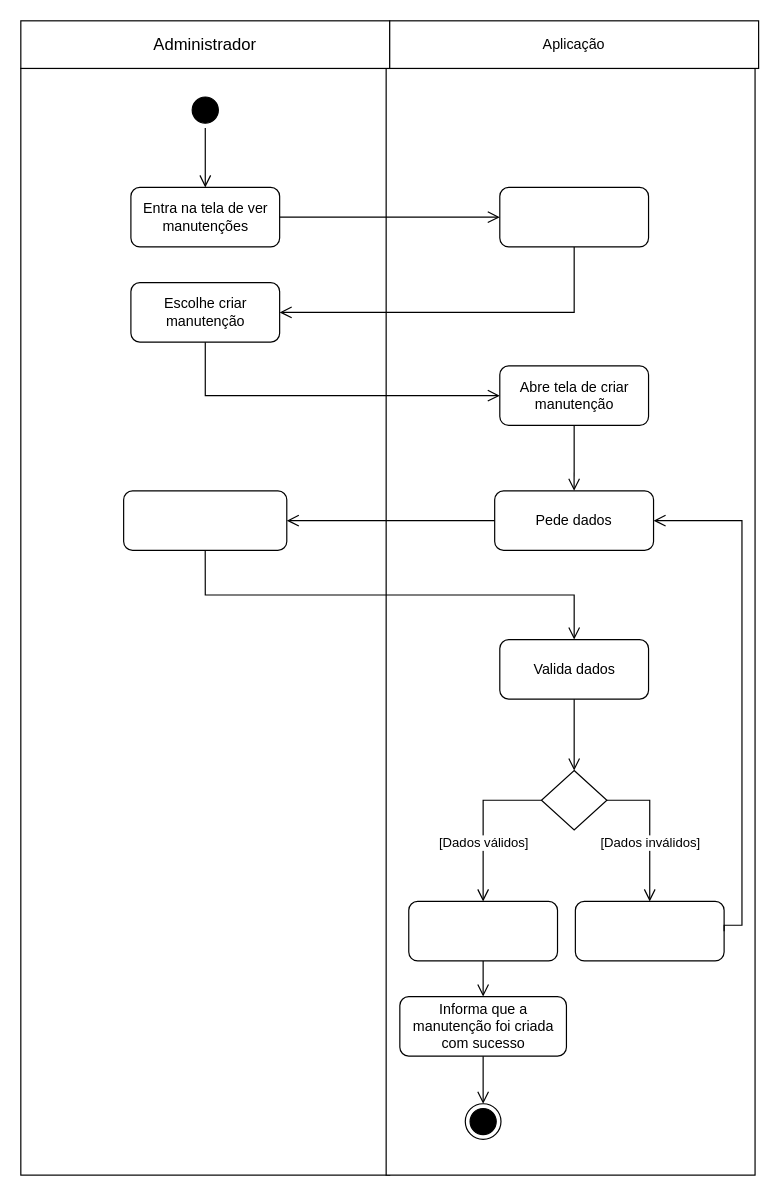
Image size: 779x1196. Some labels were removed from this diagram. Each missing label, with the centre of its shape:
Cria manutenção: [483,930]
Informa que os dados são inválidos: [649,930]
Insere dados: [204,520]
Mostra manutenções: [574,216]
